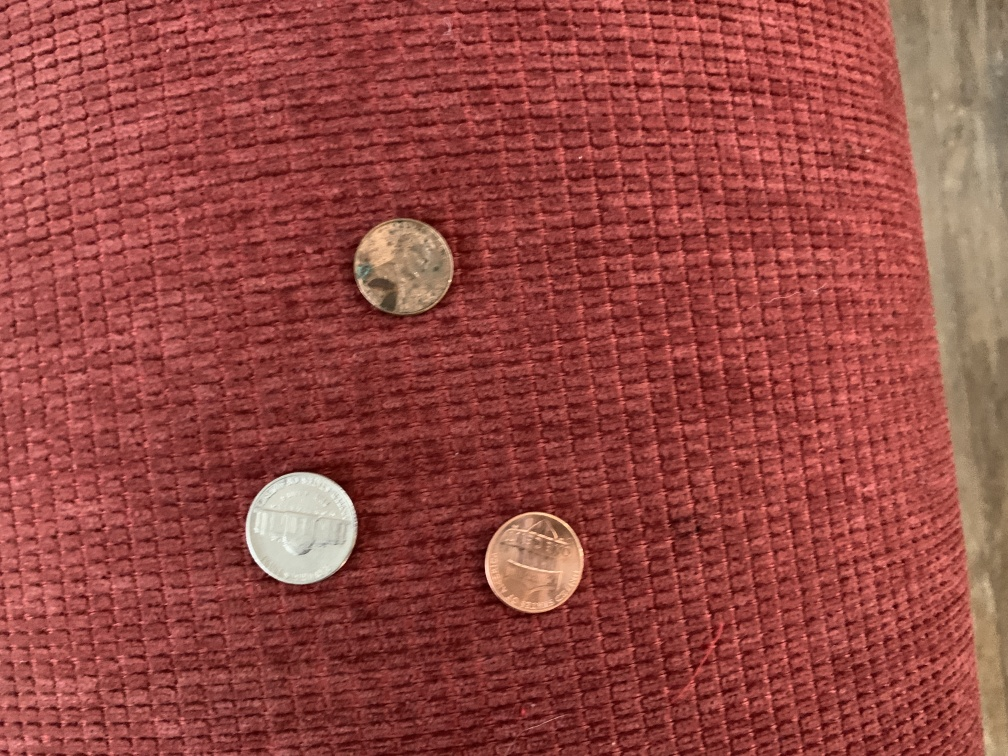nickel: (240, 465, 364, 589)
penny: (481, 507, 587, 617), (350, 214, 457, 317)
